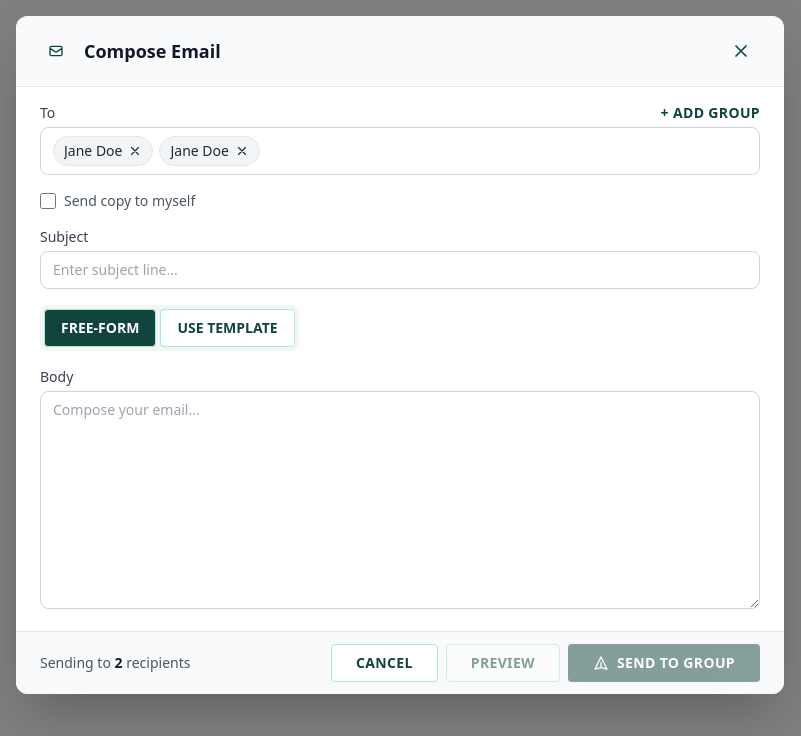
Test: EmailCompose send routing (CA-44) › shows queued/skipped count from backend response
The image size is (801, 736).
In the field with placeholder "Enter subject line...": (400, 270) [40,251,760,289], type "Subject"
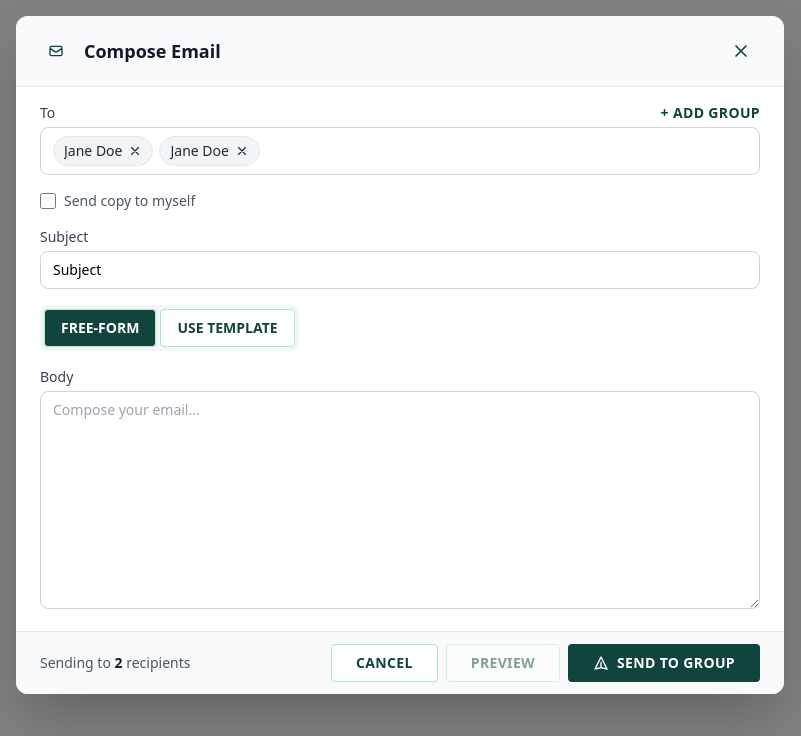
In the text box with placeholder "Compose your email...": (400, 500) [40,391,760,609], type "Body"
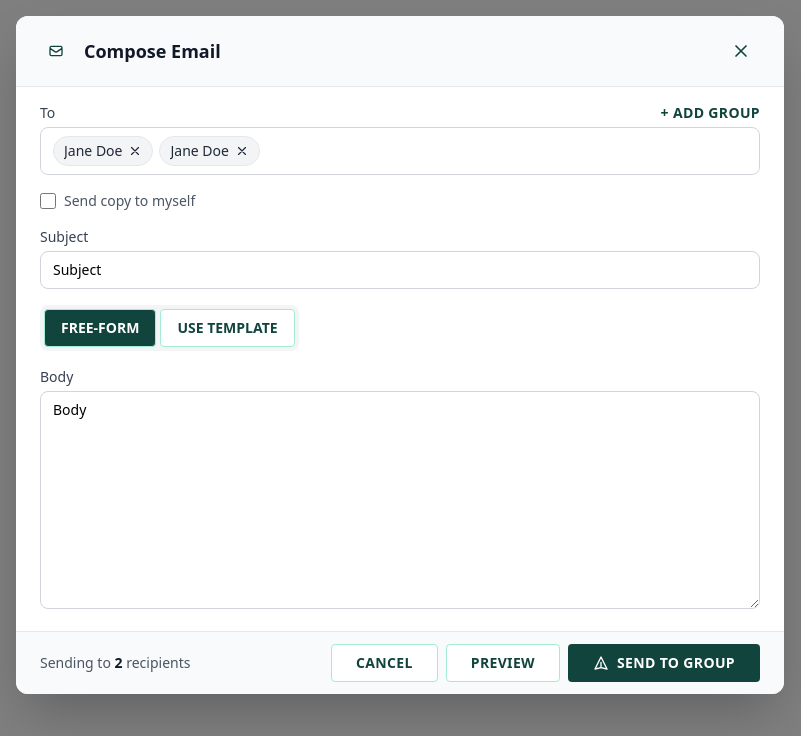
Click the button "Send to Group": (664, 663) [568,644,760,682]
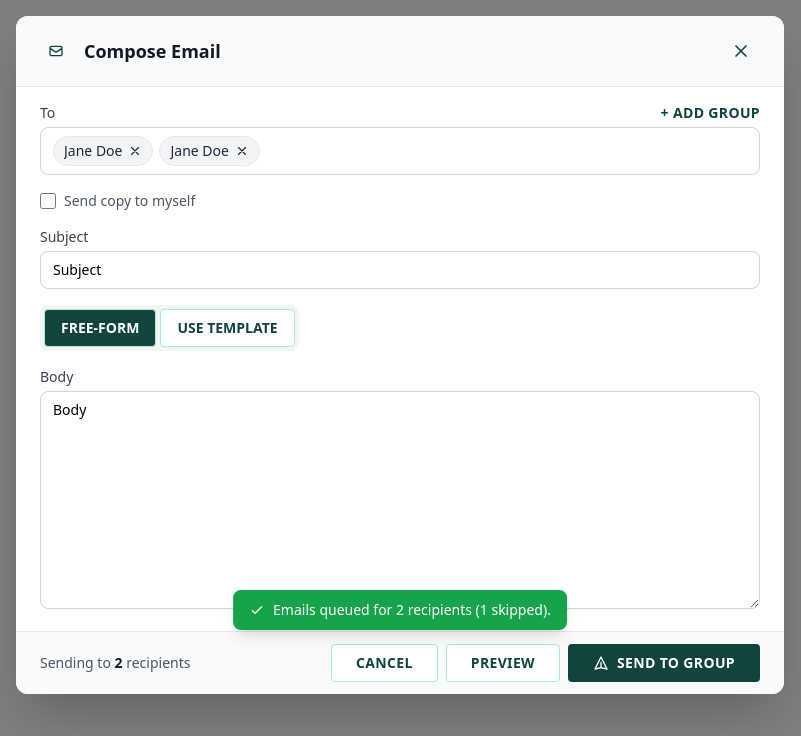
Check: the text "Emails queued for 2 recipients (1 skipped)." is shown, box [233,590,567,630]
